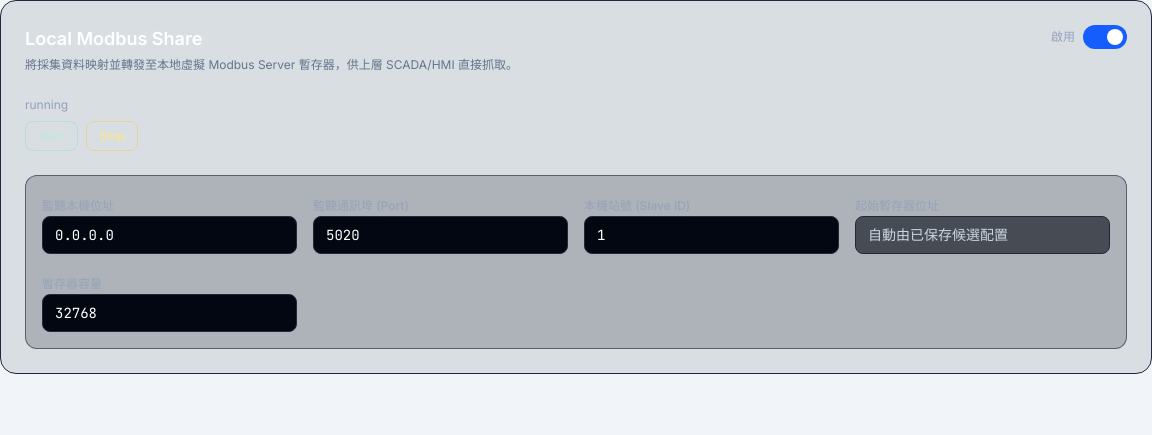
Test case: Settings Components › ModbusShareSection › renders a typed 409 conflict safely without backend details
Click the button "Stop" at x=112, y=136, box x1=86 y1=121 x2=138 y2=151
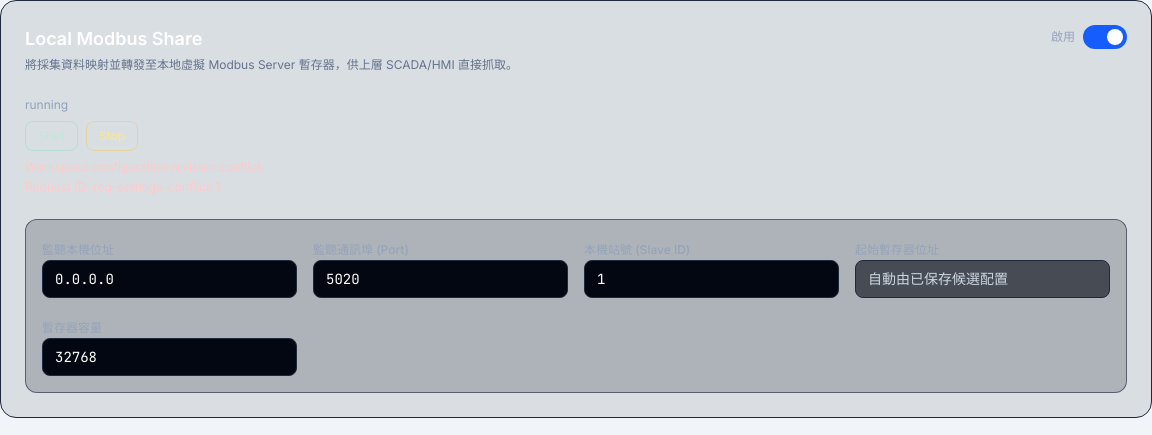
Check: the element with test id "share-runtime-operation-error" does not show "settings-secret-10", box x1=25 y1=159 x2=264 y2=194
Check: the element with test id "share-runtime-operation-error" shows "Workspace configuration revision conflict.", box x1=25 y1=159 x2=264 y2=174
Check: the element with test id "share-runtime-operation-error" shows "req-settings-conflict-1", box x1=93 y1=179 x2=220 y2=194
